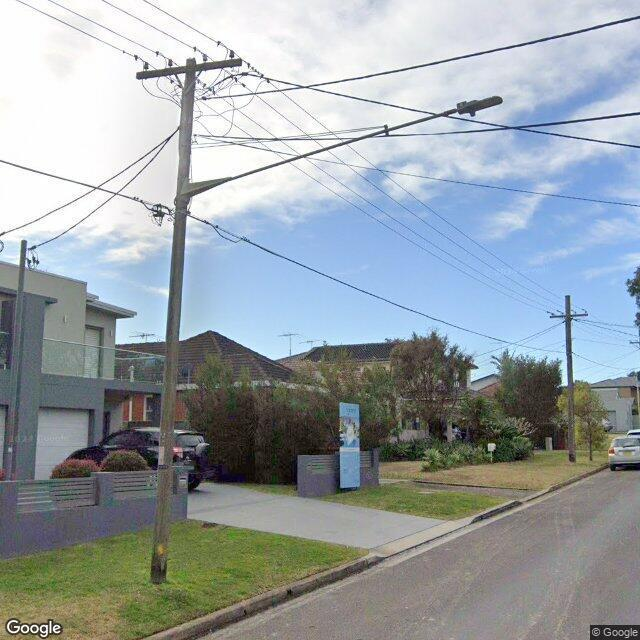crossarm: (134, 57, 244, 80), (550, 313, 589, 319)
steel-pole: (2, 238, 27, 480)
streetlight: (188, 96, 502, 199)
timber-pole: (148, 56, 198, 584), (565, 295, 576, 462)
